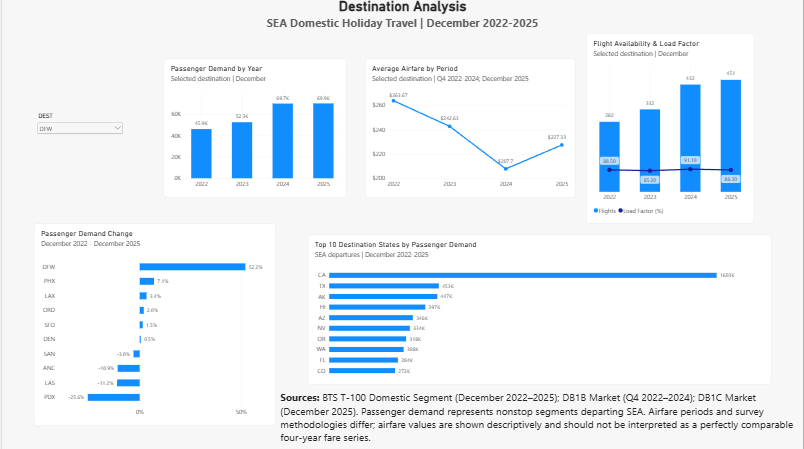

What the dashboard file says about the page in this screenshot:
{"tool":"powerbi","page":{"name":"Destination Analysis","canvas":[1920,1080],"ordinal":1},"visuals":[{"type":"textbox","title":"Destination Analysis","box":[0,0,1920.6,87.1],"z":0},{"type":"slicer","fields":{"Values":["master_top10_destinations.DEST"]},"box":[78.1,273.3,216.2,78.1],"z":1000},{"type":"clusteredColumnChart","title":"Passenger Demand by Year","fields":{"Category":["top10_yearly_demand.YEAR"],"Y":["Sum(top10_yearly_demand.PASSENGERS)"]},"box":[387.4,145.7,438.5,333.4],"z":2000},{"type":"clusteredBarChart","title":"Passenger Demand Change","fields":{"Category":["master_top10_destinations.DEST"],"Y":["airline_by_destination_top10.Passenger Change %"]},"box":[76.6,540.6,579.6,485],"z":2001},{"type":"lineChart","title":"Average Airfare by Period","fields":{"Category":["top10_airfare_long_2022_2025.YEAR"],"Y":["Sum(top10_airfare_long_2022_2025.AVG_FARE)"]},"box":[870.9,145.7,504.5,333.4],"z":2002},{"type":"lineClusteredColumnComboChart","title":"Flight Availability & Load Factor","fields":{"Category":["top10_yearly_demand.YEAR"],"Y":["Sum(top10_yearly_demand.FLIGHTS)"],"Y2":["Sum(top10_yearly_demand.LOAD_FACTOR_PCT)"]},"box":[1401,84.1,402.4,456.5],"z":2003},{"type":"clusteredBarChart","title":"Top 10 Destination States by Passenger Demand","fields":{"Category":["state_demand.DEST_STATE_ABR"],"Y":["Sum(state_demand.PASSENGERS)"]},"box":[732.8,566.1,1111.2,360.4],"z":2004},{"type":"textbox","box":[668.2,940,1240.3,129.1],"z":2005}]}

Visuals, with their boxes in screenshot pixels (x1, y1, x2, y2), scaled from the page's 1920x1080 canvas onto the 804x449 screenshot:
"Destination Analysis" textbox: [0,0,803,36]
slicer - master_top10_destinations.DEST: [33,114,123,146]
"Passenger Demand by Year" clusteredColumnChart: [162,61,346,199]
"Passenger Demand Change" clusteredBarChart: [32,225,275,426]
"Average Airfare by Period" lineChart: [365,61,576,199]
"Flight Availability & Load Factor" lineClusteredColumnComboChart: [587,35,755,225]
"Top 10 Destination States by Passenger Demand" clusteredBarChart: [307,235,772,385]
textbox: [280,391,799,444]
